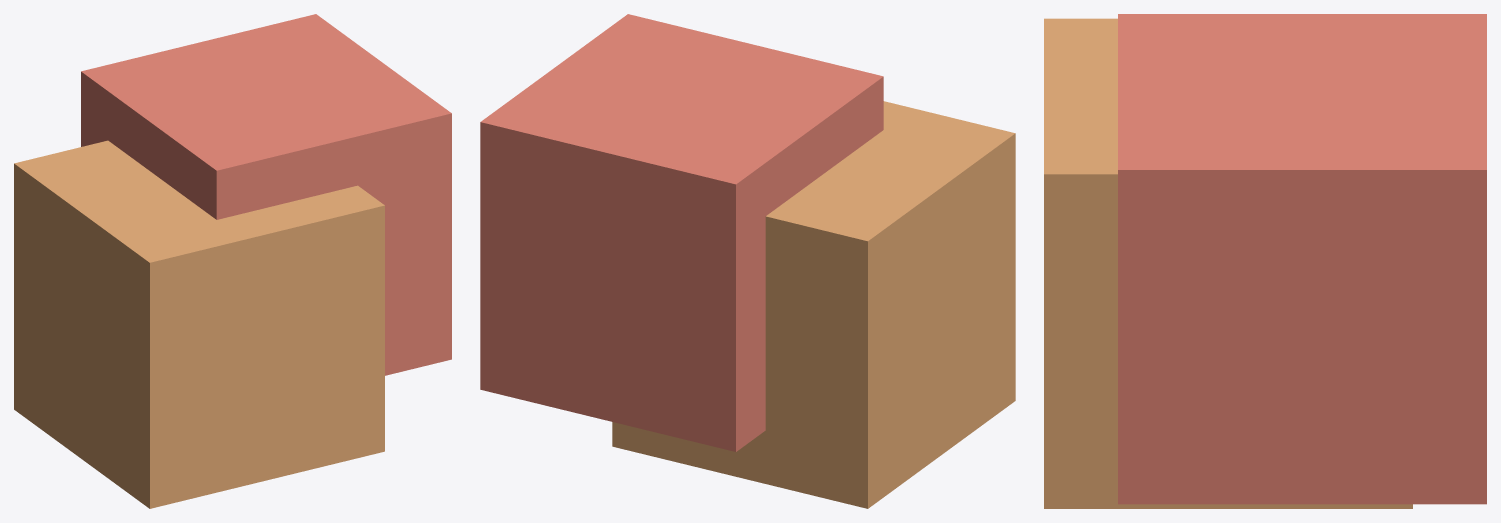
Rendered from serial_test_example_fn_std-solid-split2_output.glb.
3 renders of one model, left to right at view 1: azimuth 30°, elevation 25°; view 2: azimuth 150°, elevation 25°; view 3: azimuth 270°, elevation 25°, orthographic. The views are drawn at different scales.
Size of the model in its own units: 0.014 by 0.012 by 0.012.
